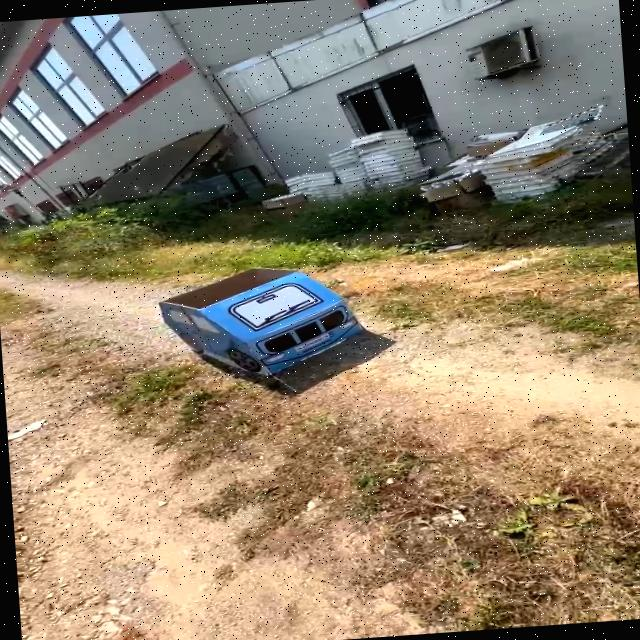blue_car: (129, 238, 400, 393)
